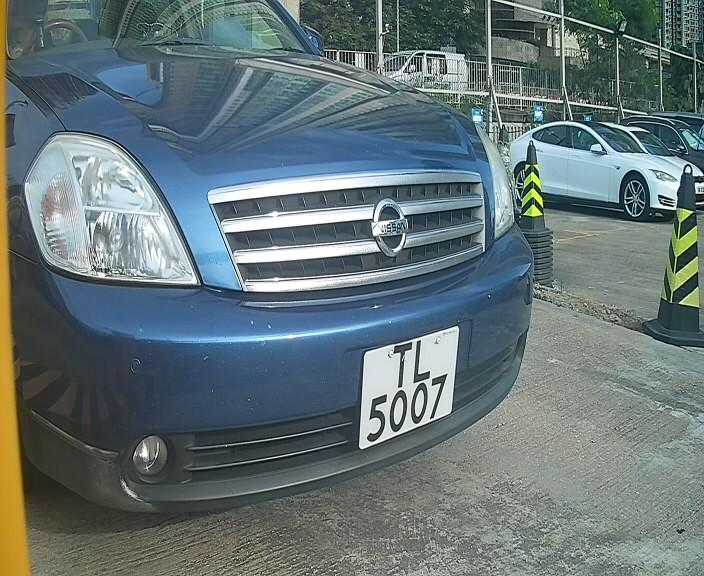Car: (10, 6, 604, 523)
License Plate: (349, 327, 466, 448)
